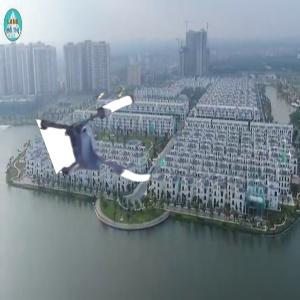drone: (51, 97, 156, 202)
